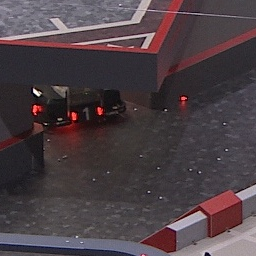Red: (71, 105, 104, 120)
Robot: (31, 85, 129, 129)
